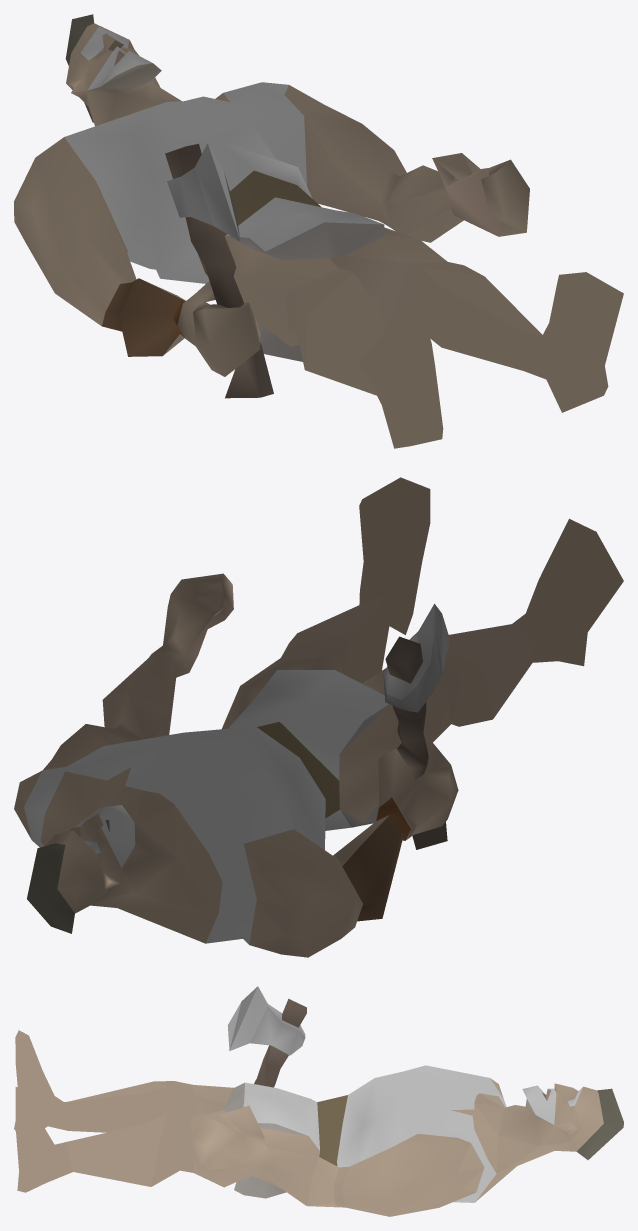
Rendered from giant-idle.fbx.
3 views of the same model, one above another, from view 1: azimuth 30°, elevation 25°; view 2: azimuth 150°, elevation 25°; view 3: azimuth 270°, elevation 25° (orthographic). The views are drawn at different scales.
Parts seen in each view (by area): view 1: Hill_Giant_2102_frame[0].001; view 2: Hill_Giant_2102_frame[0].001; view 3: Hill_Giant_2102_frame[0].001.
Boxes of the visible parts, left/top/right/bottom form: Hill_Giant_2102_frame[0].001: left=14, top=14, right=623, bottom=448; Hill_Giant_2102_frame[0].001: left=14, top=477, right=623, bottom=957; Hill_Giant_2102_frame[0].001: left=14, top=986, right=623, bottom=1216.
Bounding box in the file's own units: 15338 × 12100 × 36000.
